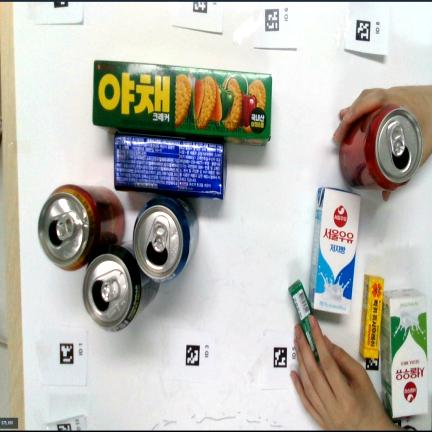can_coke_decaf: (38, 185, 124, 270)
can_coke_zero: (339, 105, 422, 190)
can_pepsi: (134, 197, 198, 282)
can_pepsi_zero: (83, 241, 159, 331)
cracker_ace: (114, 133, 226, 199)
cracker_vege: (93, 60, 272, 145)
gum_green: (289, 280, 319, 361)
gum_yellow: (359, 274, 384, 358)
milk_blue: (309, 187, 360, 314)
milk_green: (380, 289, 428, 418)
